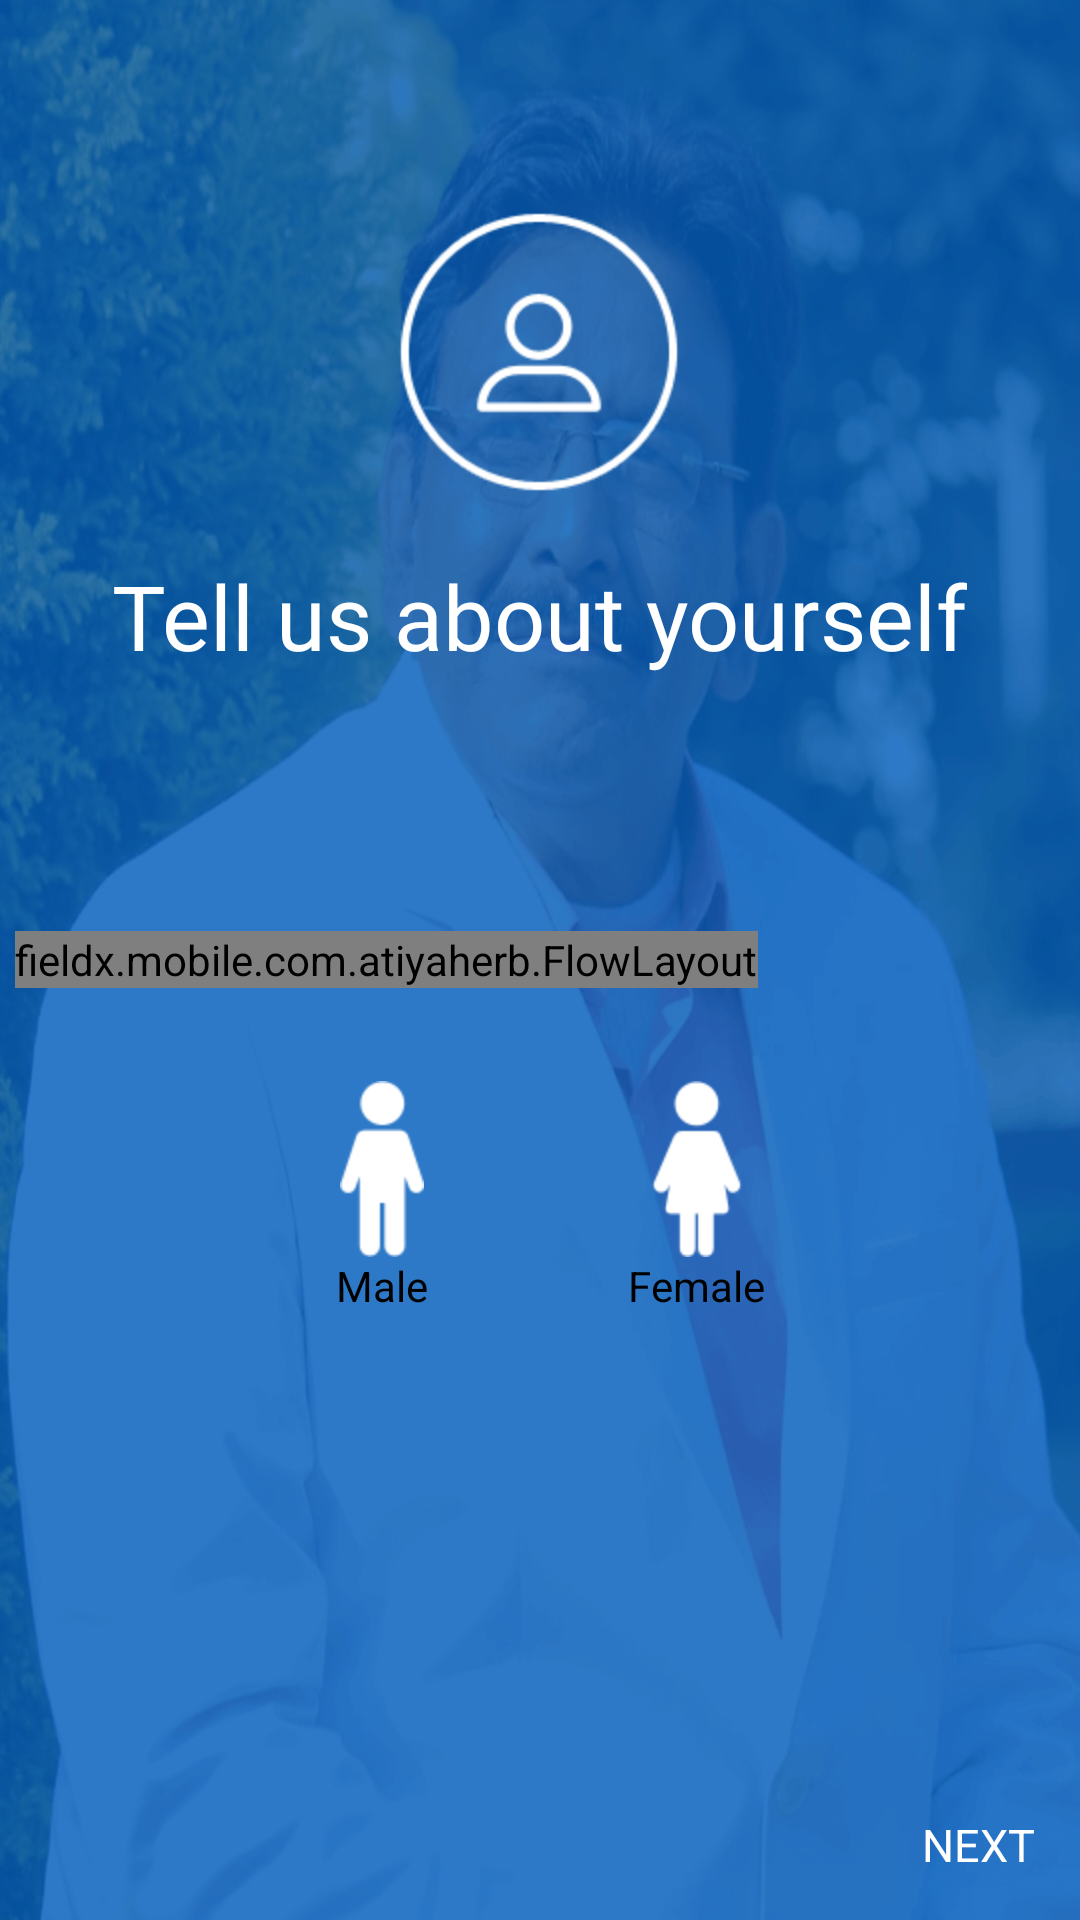

Where to tap for icons on this 1080px×1920px app screen, as point (x, y):
user circle: point (540, 351)
